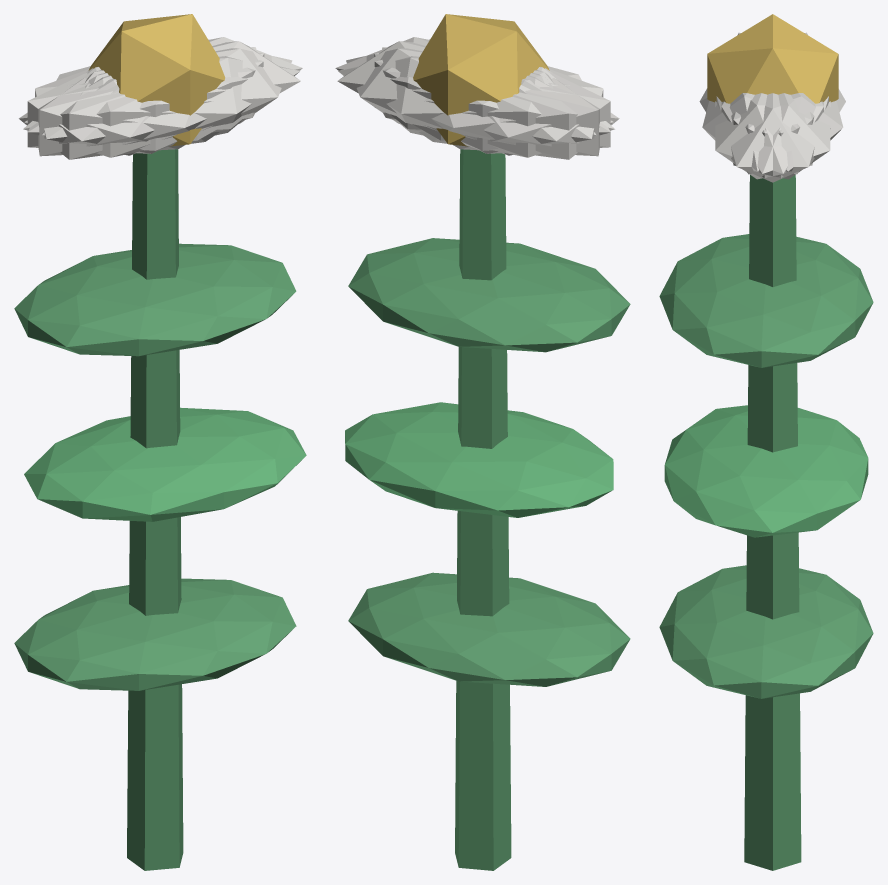
File: parietaria-hespera.glb
3 renders of one model, left to right at view 1: azimuth 30°, elevation 25°; view 2: azimuth 150°, elevation 25°; view 3: azimuth 270°, elevation 25°, orthographic.
Visible parts, largest first — view 1: stem, leaf2, leaf1, leaf0, center, petal1, petal6, petal2, petal5, petal7, petal0, petal4 (+2 smaller); view 2: stem, leaf2, leaf0, leaf1, center, petal8, petal3, petal7, petal4, petal2, petal0, petal5 (+2 smaller); view 3: stem, leaf2, leaf1, leaf0, center, petal0, petal4, petal5, petal8, petal1.
Part boxes in pixels (x1=…): stem: x1=127, y1=149, x2=183, y2=870; leaf2: x1=14, y1=243, x2=296, y2=356; leaf1: x1=24, y1=407, x2=306, y2=521; leaf0: x1=14, y1=578, x2=296, y2=690; center: x1=88, y1=14, x2=225, y2=146; petal1: x1=23, y1=56, x2=299, y2=157; petal6: x1=19, y1=68, x2=219, y2=159; petal2: x1=38, y1=47, x2=256, y2=156; petal5: x1=42, y1=48, x2=292, y2=150; petal7: x1=27, y1=53, x2=264, y2=153; petal0: x1=88, y1=41, x2=300, y2=140; petal4: x1=24, y1=37, x2=302, y2=132; stem: x1=455, y1=149, x2=511, y2=870; leaf2: x1=348, y1=238, x2=630, y2=352; leaf0: x1=348, y1=572, x2=630, y2=686; leaf1: x1=345, y1=402, x2=613, y2=517; center: x1=413, y1=14, x2=549, y2=146; petal8: x1=338, y1=56, x2=614, y2=157; petal3: x1=419, y1=68, x2=619, y2=159; petal7: x1=382, y1=47, x2=599, y2=156; petal4: x1=346, y1=48, x2=596, y2=150; petal2: x1=374, y1=53, x2=610, y2=153; petal0: x1=337, y1=41, x2=549, y2=140; petal5: x1=335, y1=37, x2=613, y2=132; stem: x1=744, y1=175, x2=801, y2=870; leaf2: x1=659, y1=234, x2=873, y2=367; leaf1: x1=664, y1=405, x2=868, y2=537; leaf0: x1=659, y1=565, x2=873, y2=698; center: x1=707, y1=14, x2=838, y2=103; petal0: x1=716, y1=93, x2=828, y2=182; petal4: x1=721, y1=93, x2=830, y2=179; petal5: x1=715, y1=93, x2=823, y2=179; petal8: x1=731, y1=93, x2=843, y2=171; petal1: x1=702, y1=93, x2=814, y2=171.
Size of the model in its own units: 0.1452 by 0.4257 by 0.0999.
